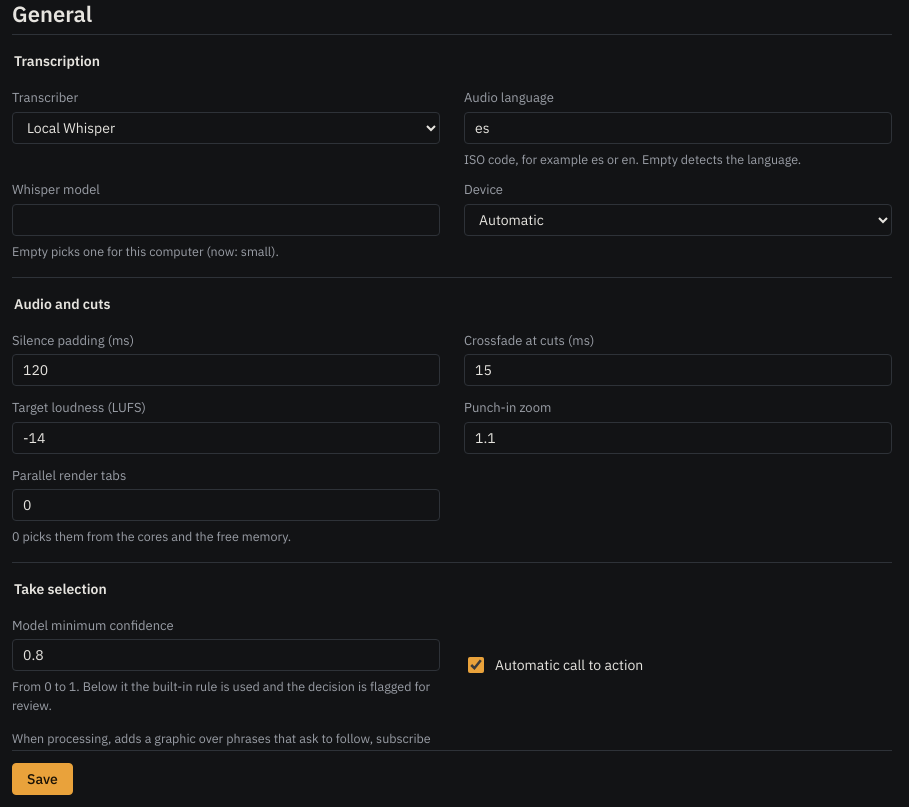
Test case: SettingsScreen › sends only the changed fields with numbers as numbers
Replace the text in the field labelled "Target loudness (LUFS)" with "-16": (226, 438) [12, 422, 440, 454]
(page scrolled)
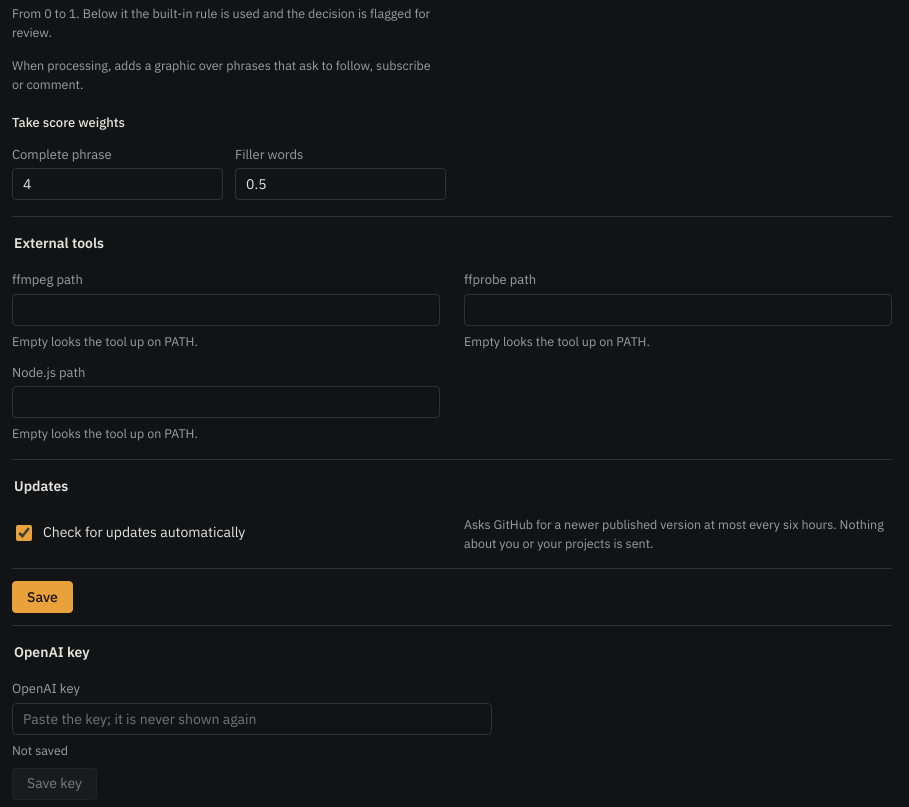
In the field labelled "Node.js path": (226, 402) [12, 386, 440, 418], type "C:/node-x64/node.exe"
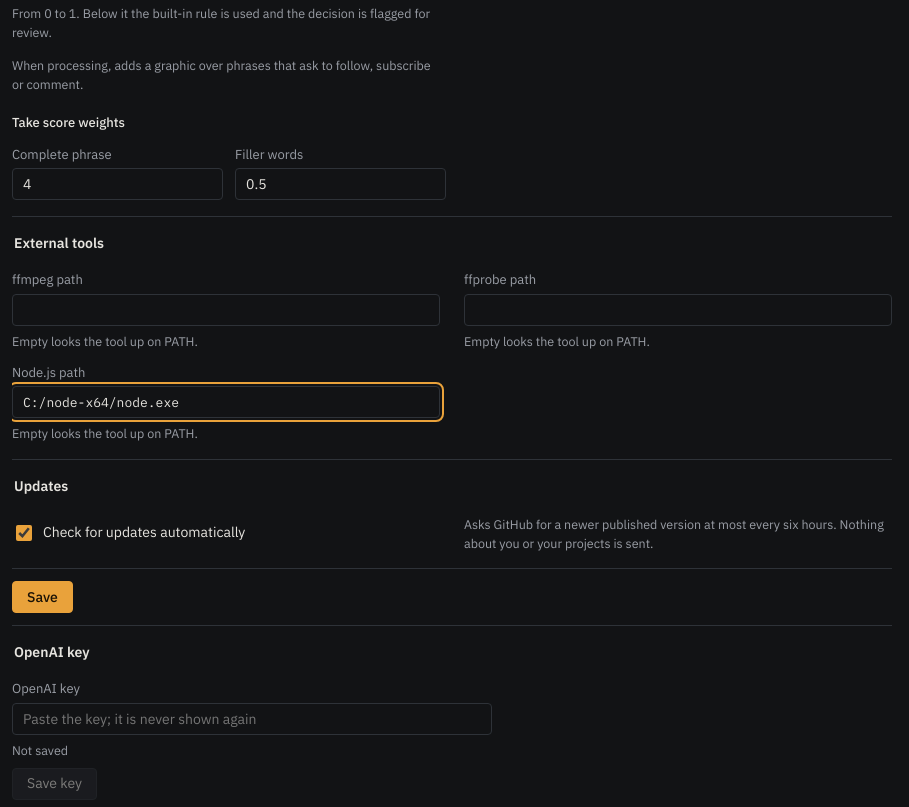
Replace the text in the field labelled "Filler words" with "1": (340, 184) [235, 168, 446, 200]
(page scrolled)
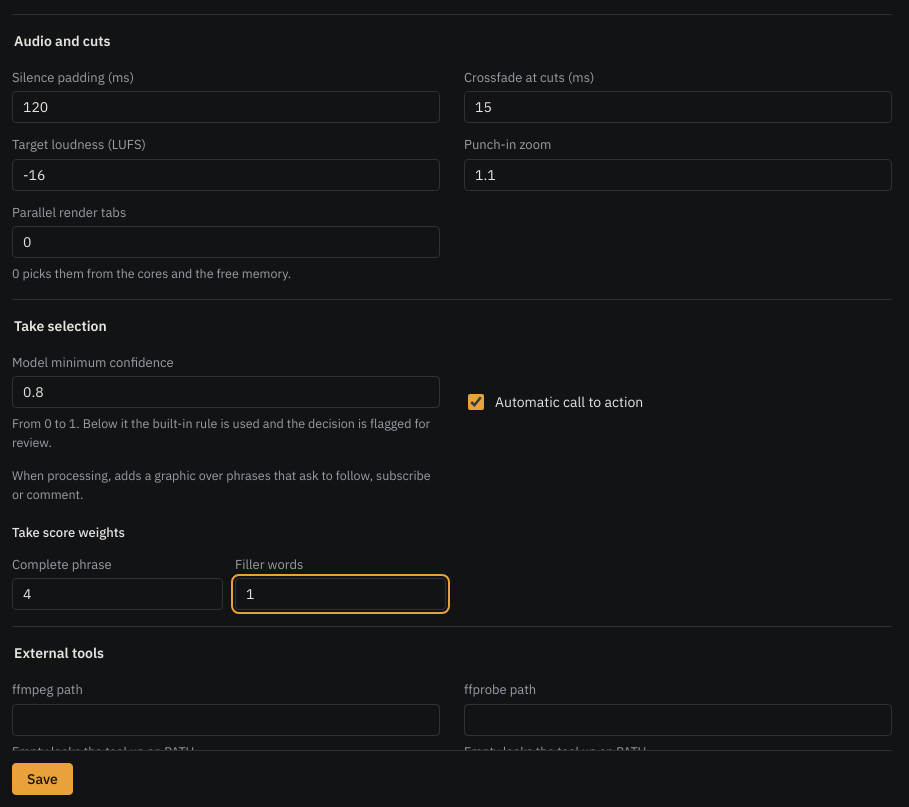
Click the checkbox labelled "Automatic call to action": (476, 402) [468, 394, 484, 410]
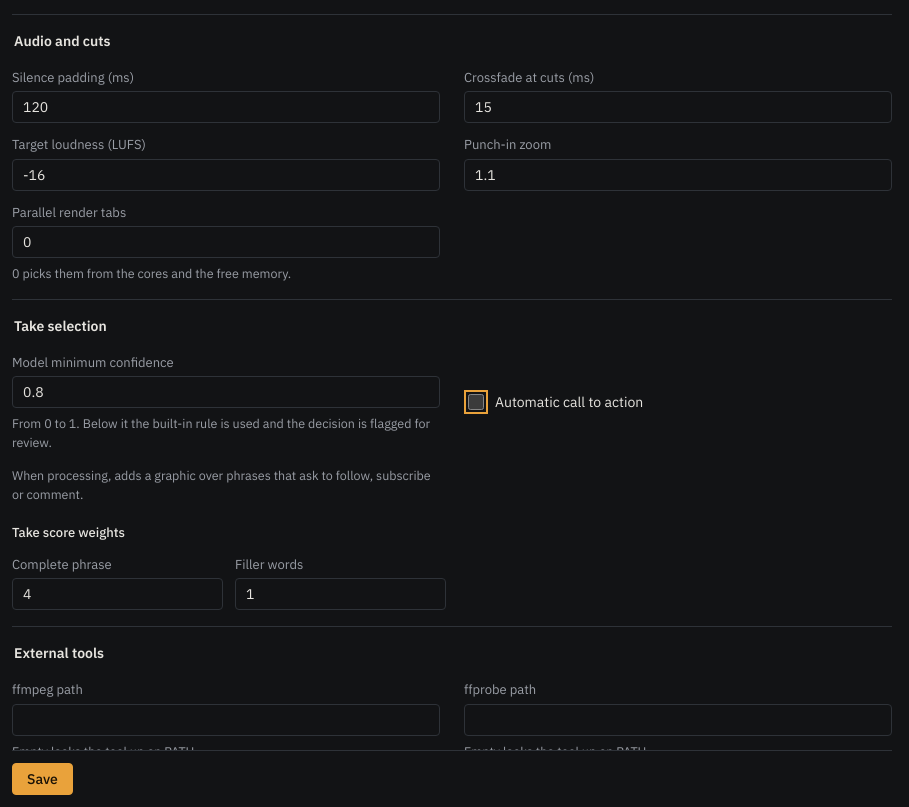
Click the button "Save": (42, 779) [12, 763, 73, 795]
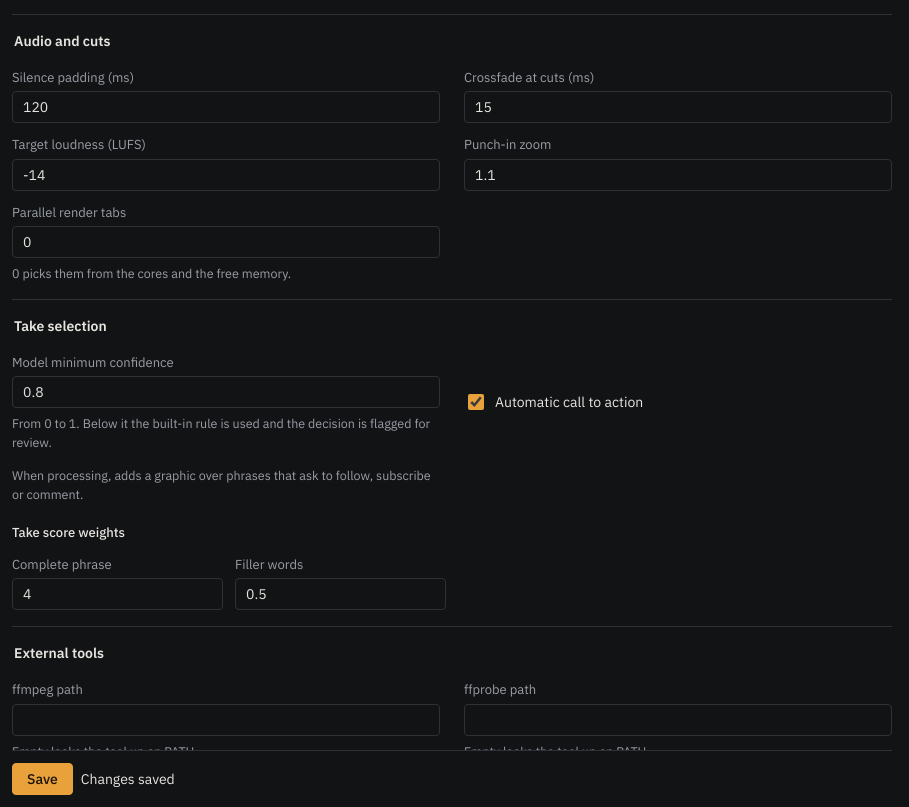
Now the text "Changes saved" is shown, box [81, 768, 175, 790]
